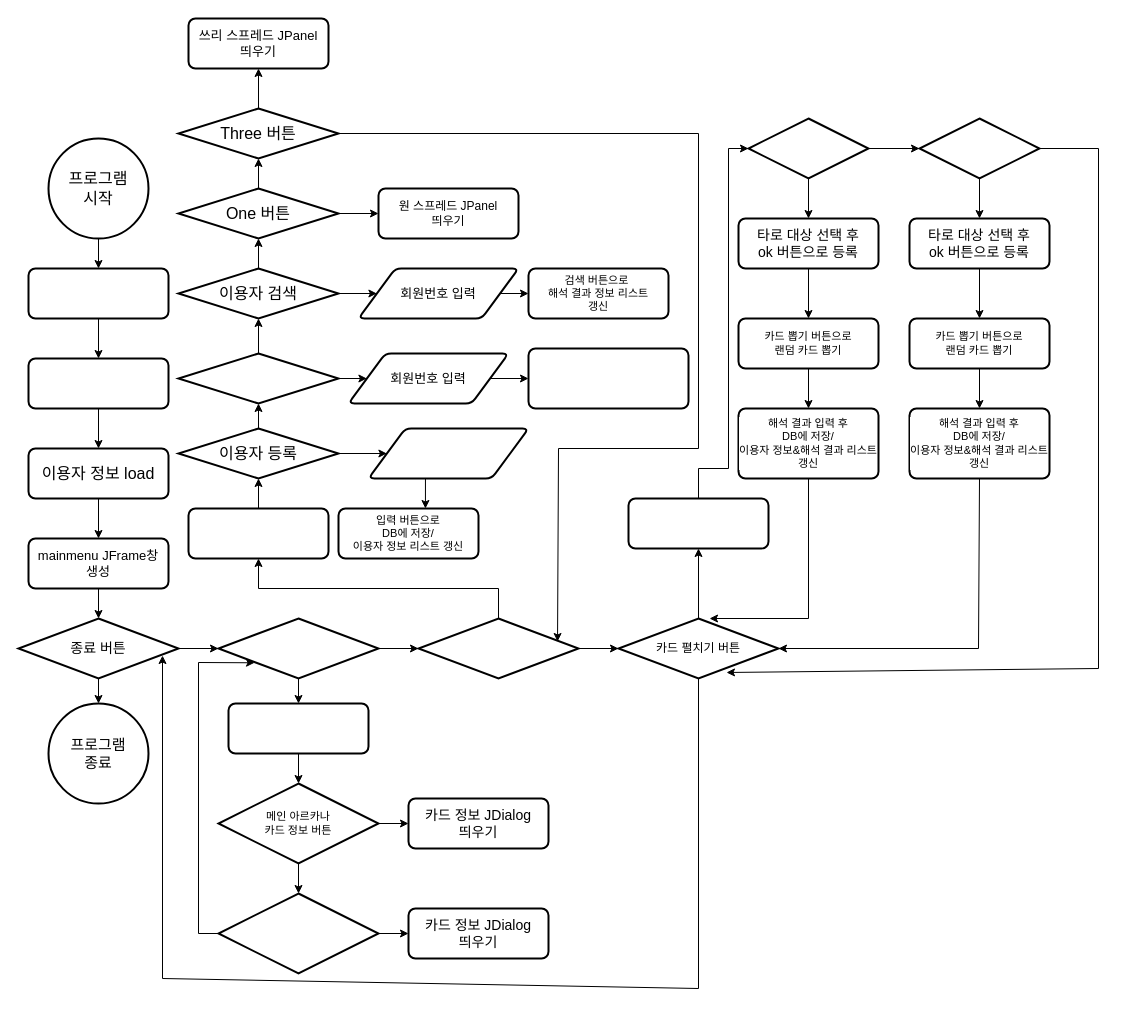
Some shapes in this 1124 by 1014 pixel diagram are drawn without their labels. Each missing label, with the centre of its shape:
"1 card 버튼" belongs at [808,148].
"3 card 버튼" belongs at [979,148].
"DB 접속" belongs at [98,293].
"마이너 아르카나 카드 정보 버튼" belongs at [298,933].
"삭제 버튼으로 DB에서 삭제/ 이용자 정보&해석 결과 리스트 갱신" belongs at [608,378].
"이름, 나이, 전화 번호 입력" belongs at [448,453].
"이용자 삭제" belongs at [258,378].
"이용자 정보 JPanel 띄우기" belongs at [258,533].
"이용자 정보 버튼" belongs at [498,648].
"카드 정보 JPanel 띄우기" belongs at [298,728].
"카드 정보 load" belongs at [98,383].
"카드 정보 버튼" belongs at [298,648].
"카드 펼치기 JPanel 띄우기" belongs at [698,523].
